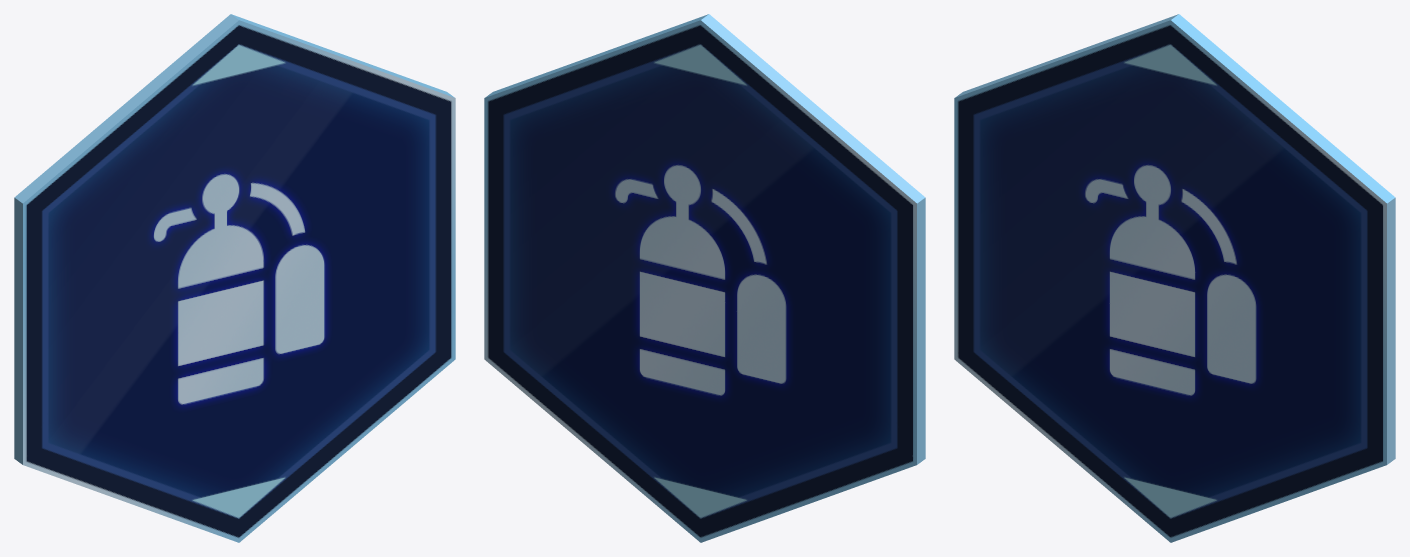
Rendered from Marker_AntiDrugGoods.gltf.
3 renders of one model, left to right at view 1: azimuth 30°, elevation 25°; view 2: azimuth 150°, elevation 25°; view 3: azimuth 330°, elevation 25°, orthographic.
Visible parts, largest first — view 1: MarkerAntiDrugGoods_A; view 2: MarkerAntiDrugGoods_A; view 3: MarkerAntiDrugGoods_A.
Part boxes in pixels (x1,y1,x2,y2): MarkerAntiDrugGoods_A: (14, 14, 455, 542); MarkerAntiDrugGoods_A: (484, 14, 925, 542); MarkerAntiDrugGoods_A: (954, 14, 1395, 542).
Size of the model in its own units: 5.94 by 6.86 by 0.2003.
Materials: 1 (1 with a texture image).
